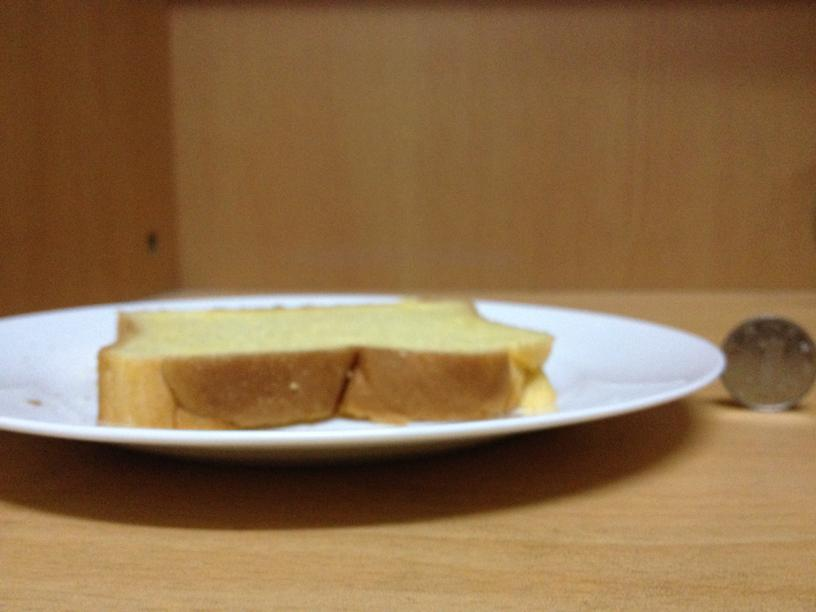bread: (98, 291, 552, 429)
coin: (723, 315, 813, 412)
